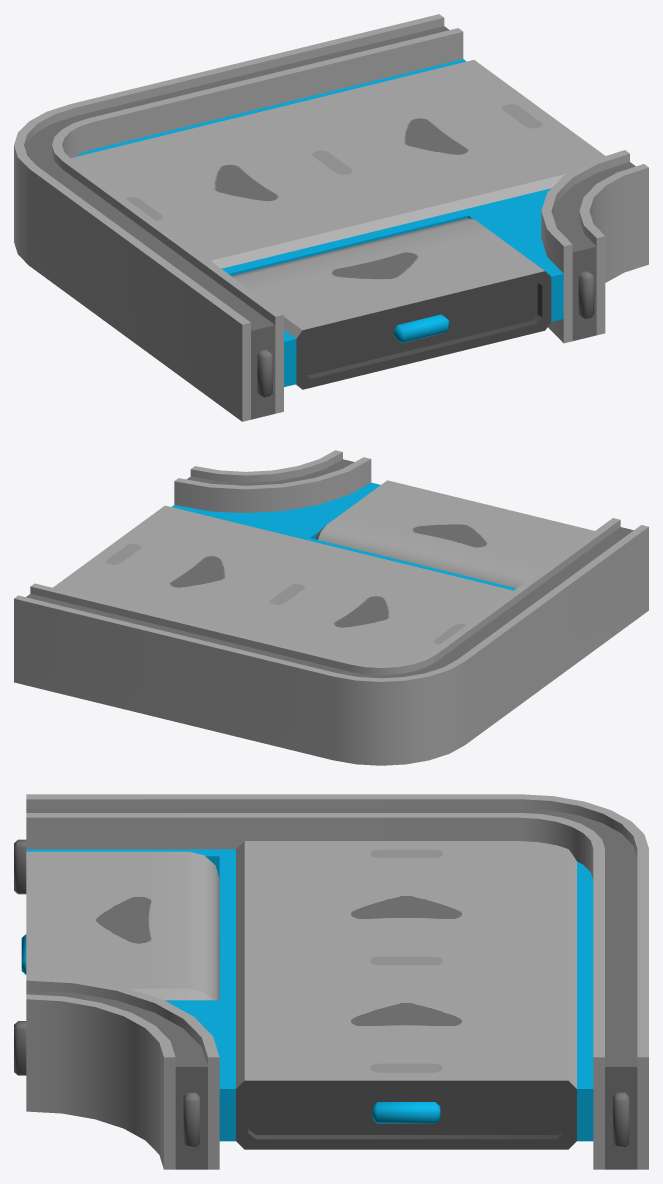
File: Conveyor_Belt_2nd_Turn_01A.fbx
3 renders of one model, top to bottom at view 1: azimuth 30°, elevation 25°; view 2: azimuth 150°, elevation 25°; view 3: azimuth 270°, elevation 25°, orthographic. The views are drawn at different scales.
Visible parts, largest first — view 1: Conveyor_Belt_2nd_Turn_01A; view 2: Conveyor_Belt_2nd_Turn_01A; view 3: Conveyor_Belt_2nd_Turn_01A.
Part boxes in pixels (x1,y1,x2,y2): Conveyor_Belt_2nd_Turn_01A: (14,14,648,421); Conveyor_Belt_2nd_Turn_01A: (14,450,648,765); Conveyor_Belt_2nd_Turn_01A: (14,794,648,1169).
Size of the model in its own units: 167 by 32.6 by 167.
